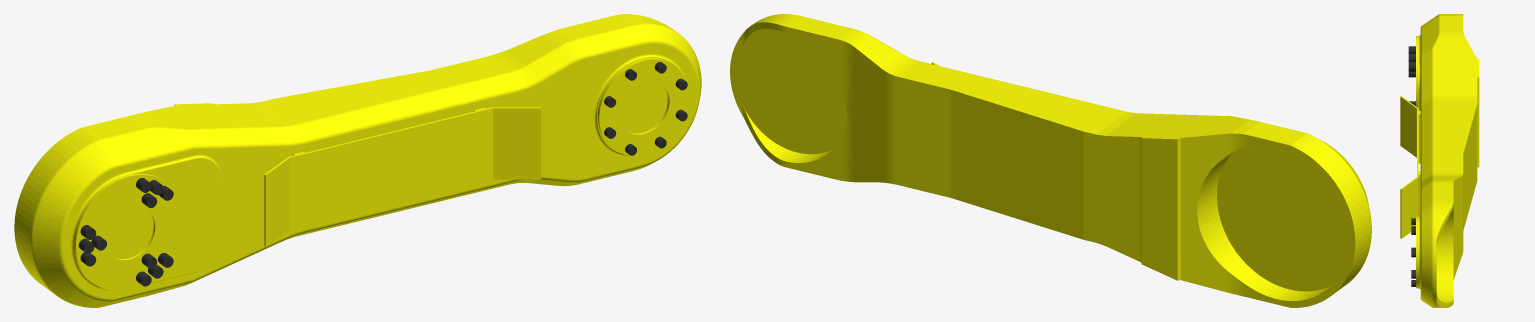
The picture shows the model from 3 angles, left to right: view 1: azimuth 30°, elevation 25°; view 2: azimuth 150°, elevation 25°; view 3: azimuth 270°, elevation 25°; orthographic projection. The views are drawn at different scales.
Parts seen in each view (by area): view 1: node; view 2: node; view 3: node.
Part boxes in pixels (left/top/right/bottom): node: left=14, top=14, right=701, bottom=307; node: left=730, top=14, right=1371, bottom=307; node: left=1400, top=14, right=1479, bottom=307.
Size of the model in its own units: 996 by 240 by 226.
